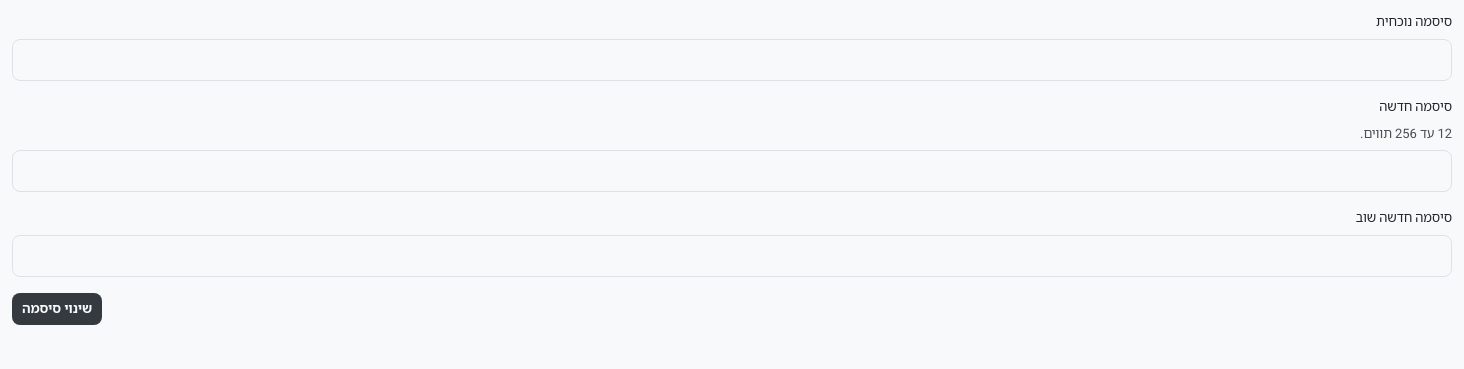
changing the password › sends nothing while the new password and its repeat differ
Type "old password here" into the password field labelled "סיסמה נוכחית". click: (732, 60)
box: [12,39,1452,81]
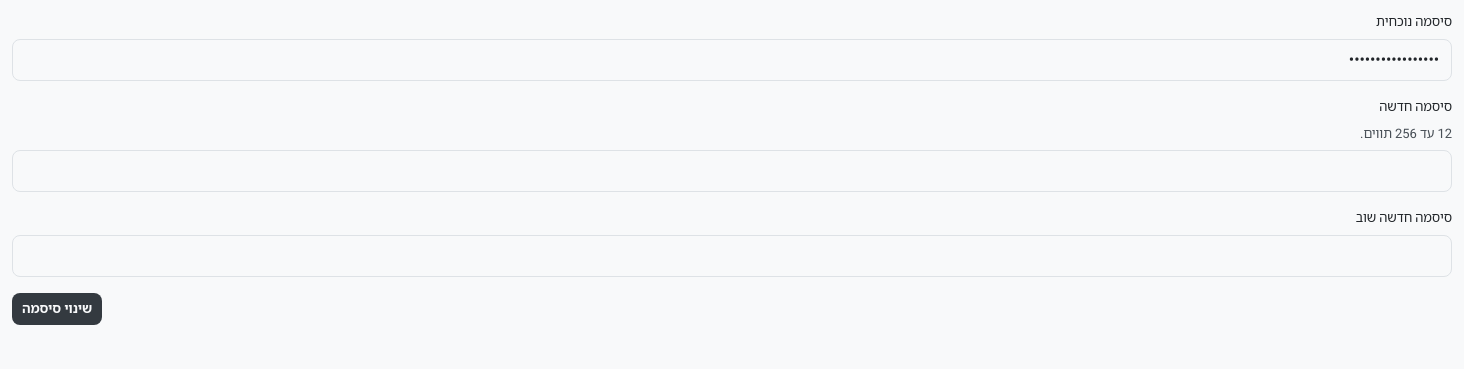
Type "new password here" into the password field labelled "סיסמה חדשה". click: (732, 171)
box: [12,150,1452,192]
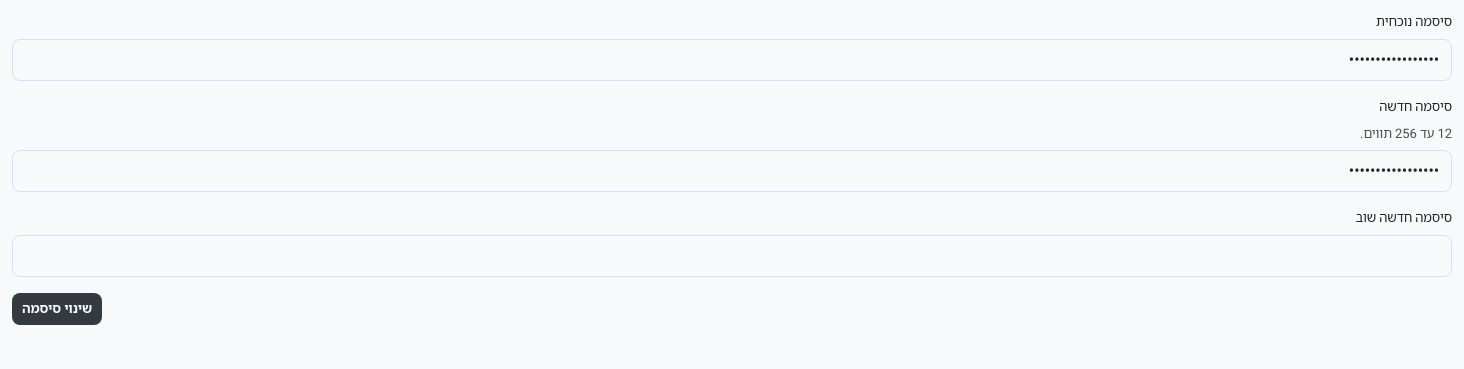
Type "new password hrer" into the password field labelled "סיסמה חדשה שוב". click: (732, 256)
box: [12,235,1452,277]
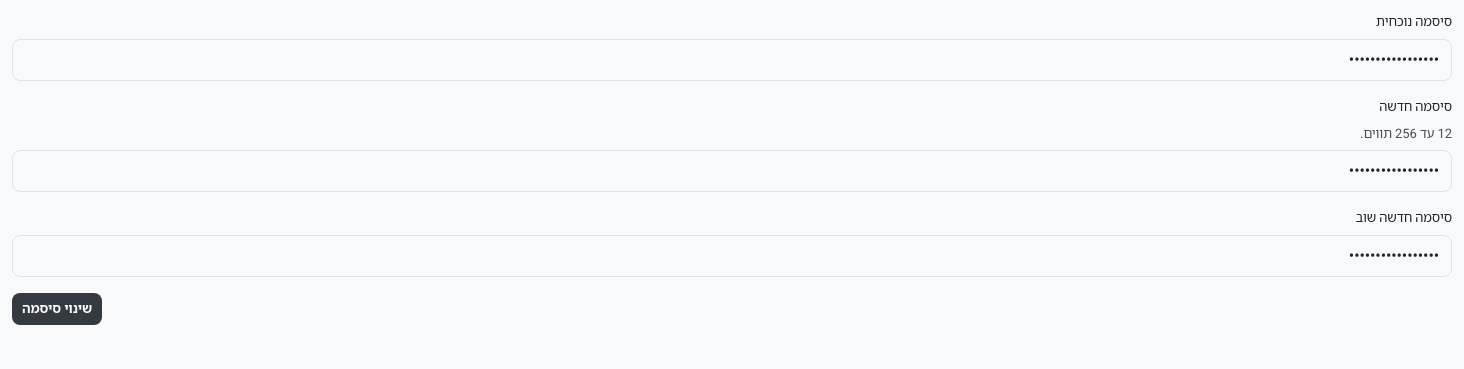
Click the button "שינוי סיסמה". click: (57, 309)
box: [12,293,102,325]
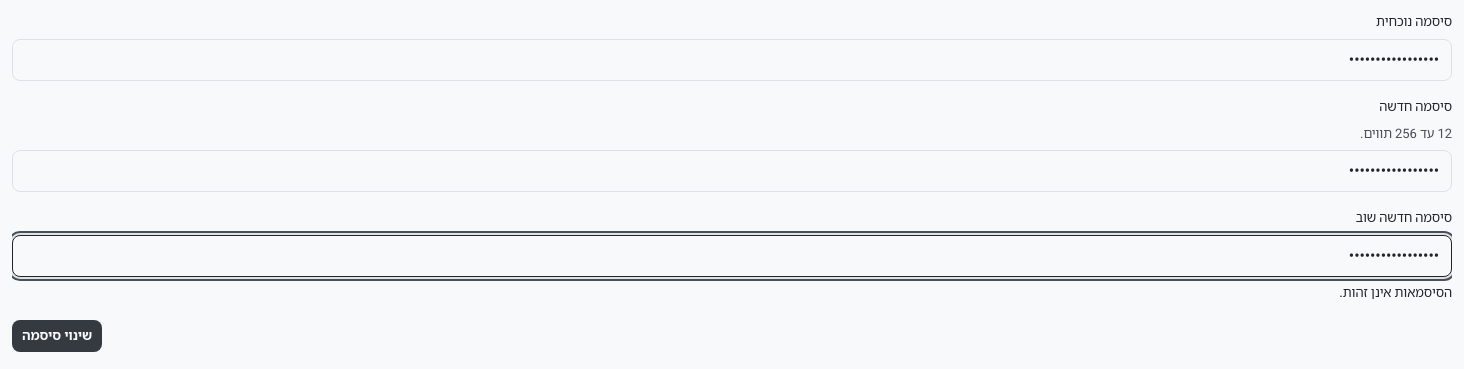
Expected: the text "הסיסמאות אינן זהות." is shown, [1339,283,1452,302]
